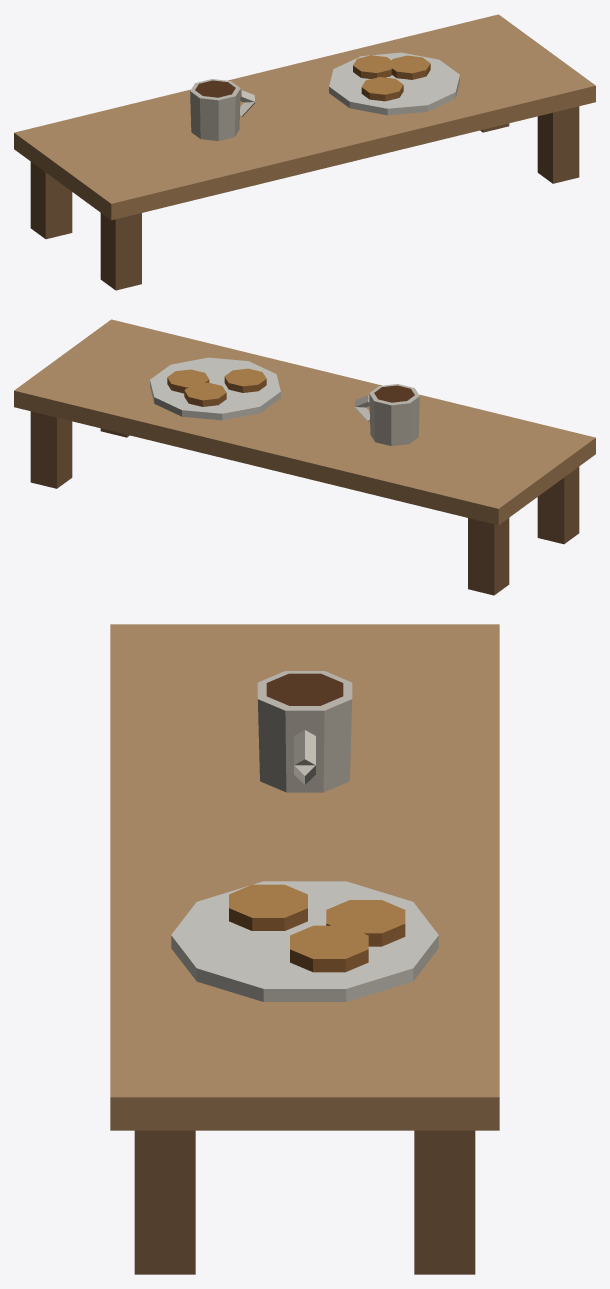
File: low_table_living.fbx
3 views of the same model, one above another, from view 1: azimuth 30°, elevation 25°; view 2: azimuth 150°, elevation 25°; view 3: azimuth 270°, elevation 25° (orthographic). The views are drawn at different scales.
Parts seen in each view (by area): view 1: low_table_living; view 2: low_table_living; view 3: low_table_living.
Part boxes in pixels (bbox=[...]): low_table_living: bbox=[14, 14, 595, 290]; low_table_living: bbox=[14, 319, 595, 595]; low_table_living: bbox=[110, 624, 499, 1274].
Size of the model in its own units: 0.92 by 0.246 by 0.32.
